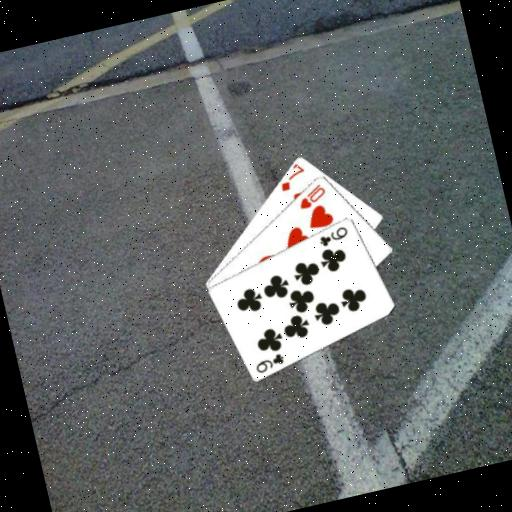10H: (293, 179, 330, 212)
7D: (273, 159, 310, 194)
9C: (314, 222, 352, 249), (251, 349, 288, 376)
